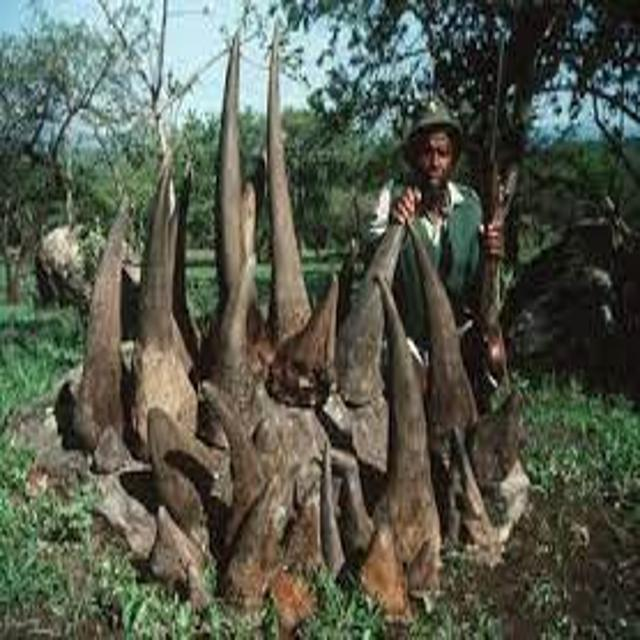poacher: (324, 71, 538, 424)
